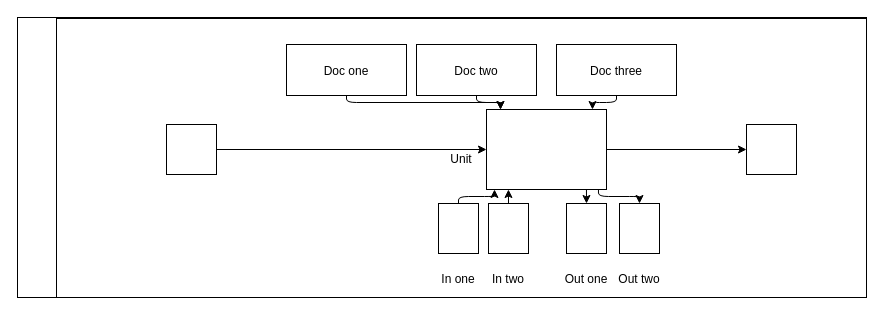
This 884x315 diagram has some shape labels left out. Each missing label, with the box of its shape:
Assemble: (486, 108, 606, 190)
Go: (166, 124, 216, 174)
Stop: (746, 124, 796, 174)
